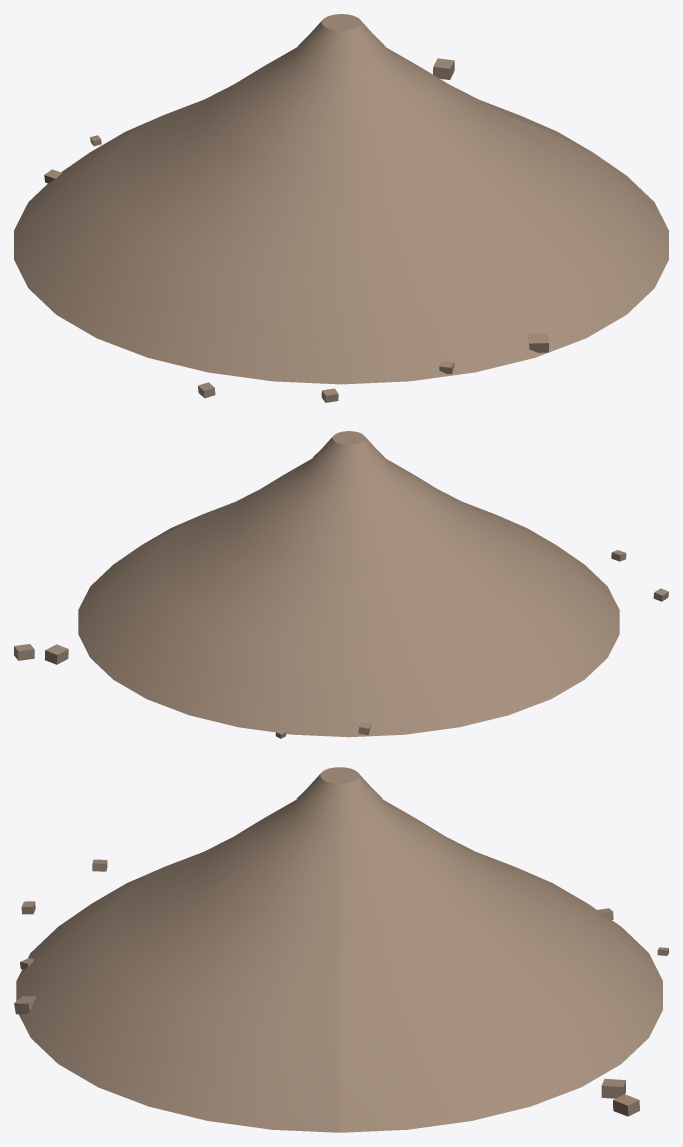
Rendered from ore-processing-and-haulage-plant-coarse-ore-stockpile-4f749627.glb.
The picture shows the model from 3 angles, top to bottom: view 1: azimuth 30°, elevation 25°; view 2: azimuth 150°, elevation 25°; view 3: azimuth 270°, elevation 25°; orthographic projection. The views are drawn at different scales.
Parts seen in each view (by area): view 1: coarse-ore-stockpile; view 2: coarse-ore-stockpile; view 3: coarse-ore-stockpile.
Part boxes in pixels (x1=…): coarse-ore-stockpile: x1=14, y1=14, x2=668, y2=402; coarse-ore-stockpile: x1=14, y1=431, x2=668, y2=738; coarse-ore-stockpile: x1=14, y1=767, x2=668, y2=1132.
Bounding box in the file's own units: 30 × 11.2 × 30.22.
